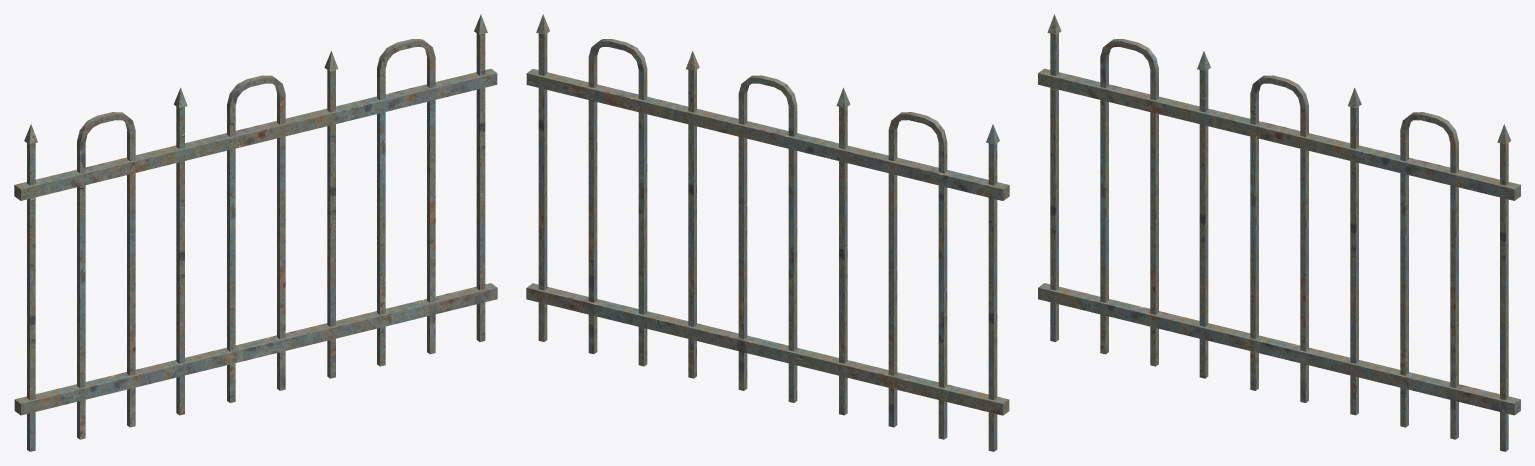
Rendered from fence15.FBX.
The picture shows the model from 3 angles, left to right: view 1: azimuth 30°, elevation 25°; view 2: azimuth 150°, elevation 25°; view 3: azimuth 330°, elevation 25°; orthographic projection.
Parts seen in each view (by area): view 1: metal_fence_small_loop_spear; view 2: metal_fence_small_loop_spear; view 3: metal_fence_small_loop_spear.
Boxes of the visible parts, x1,y1,x2,y2 form: metal_fence_small_loop_spear: [14, 14, 497, 451]; metal_fence_small_loop_spear: [526, 14, 1009, 451]; metal_fence_small_loop_spear: [1038, 14, 1520, 451].
Size of the model in its own units: 273 by 178 by 6.31.
